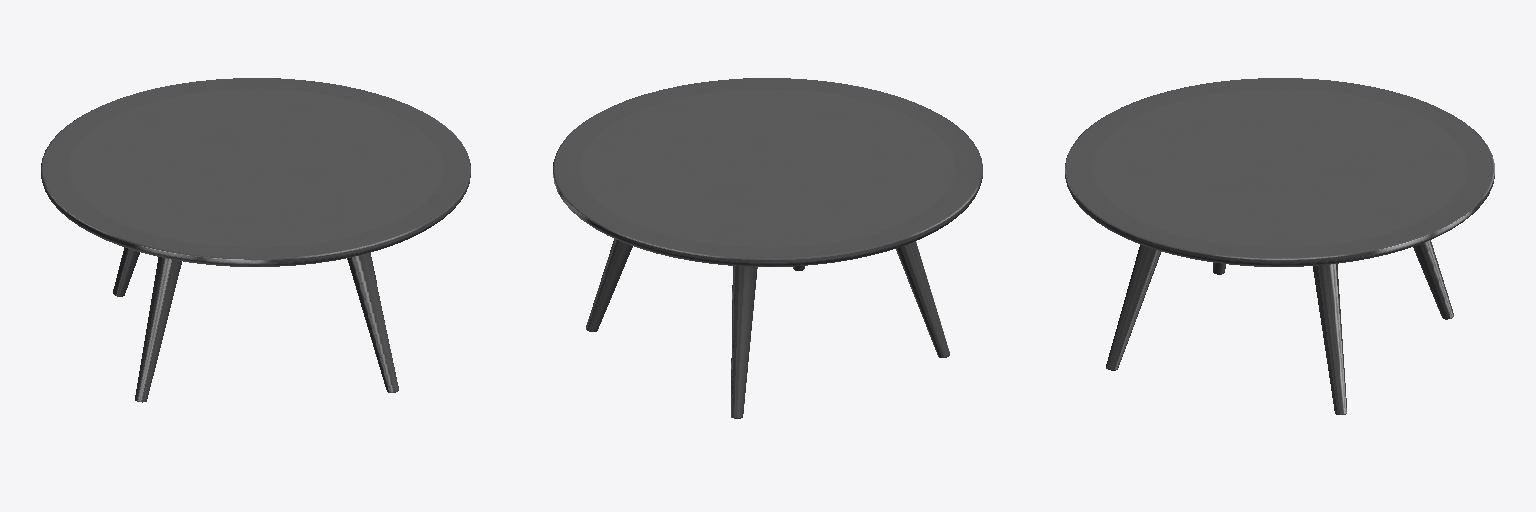
3 renders of one model, left to right at view 1: azimuth 30°, elevation 25°; view 2: azimuth 150°, elevation 25°; view 3: azimuth 270°, elevation 25°, orthographic.
Parts seen in each view (by area): view 1: solid_001, solid_002; view 2: solid_001, solid_002; view 3: solid_001, solid_002.
Boxes of the visible parts, box(x1,y1,x2,y2) form: solid_001: box(41, 78, 470, 266); solid_002: box(113, 247, 398, 402); solid_001: box(553, 78, 982, 266); solid_002: box(586, 239, 949, 418); solid_001: box(1065, 78, 1494, 266); solid_002: box(1106, 240, 1453, 414).
Bounding box in the file's own units: 2 × 0.9005 × 2.
Materials: 1 (1 with a texture image).